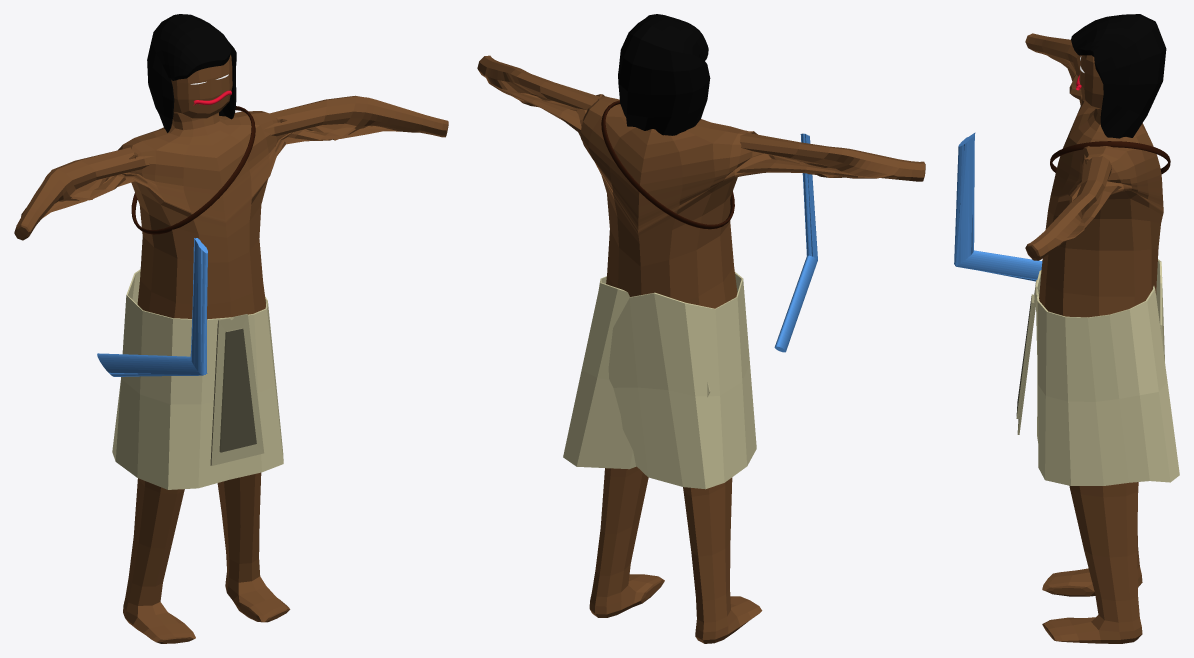
The model's file is bumerang_tower_starověk.fbx.
3 renders of one model, left to right at view 1: azimuth 30°, elevation 25°; view 2: azimuth 150°, elevation 25°; view 3: azimuth 270°, elevation 25°, orthographic. The views are drawn at different scales.
Parts seen in each view (by area): view 1: Cube, Plane, Plane.001, Plane.002, Cylinder, BezierCircle; view 2: Cube, Plane, Plane.002, Cylinder, BezierCircle; view 3: Cube, Plane, Plane.002, Cylinder, Plane.001, BezierCircle.
Part boxes in pixels (x1,y1,x2,y2): Cube: (14, 55, 448, 643); Plane: (112, 269, 283, 489); Plane.001: (210, 314, 264, 465); Plane.002: (147, 14, 236, 132); Cylinder: (97, 238, 207, 376); BezierCircle: (131, 106, 255, 234); Cube: (477, 55, 925, 643); Plane: (563, 272, 756, 489); Plane.002: (618, 14, 710, 135); Cylinder: (774, 133, 817, 352); BezierCircle: (601, 100, 734, 229); Cube: (1025, 33, 1163, 643); Plane: (1035, 259, 1179, 485); Plane.002: (1071, 14, 1166, 138); Cylinder: (954, 132, 1042, 281); Plane.001: (1016, 280, 1037, 434); BezierCircle: (1050, 141, 1170, 173).
Size of the model in its own units: 264 by 343 by 117.
